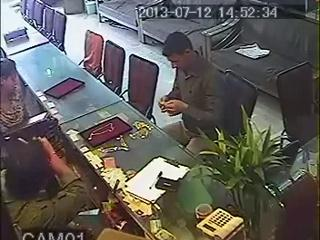Normal: (178, 106, 304, 240), (2, 103, 94, 236), (158, 31, 226, 144), (276, 61, 319, 151), (120, 54, 160, 124), (221, 70, 258, 137), (85, 117, 133, 148)
